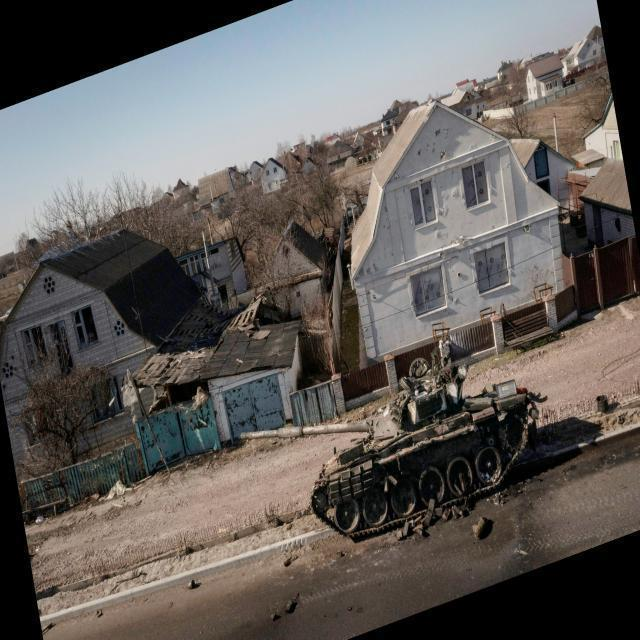MIL_MBT: (240, 352, 534, 547)
